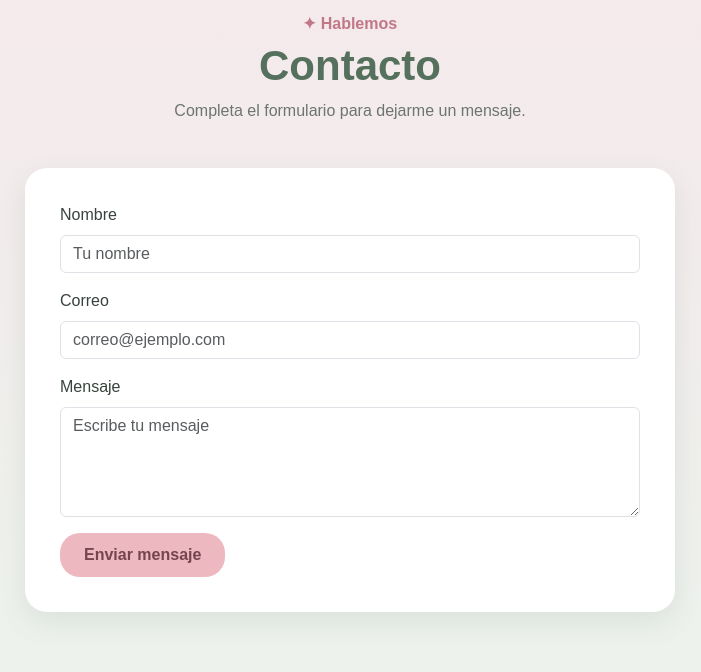
Test: Contacto › muestra errores cuando el formulario está vacío
Click the button "Enviar mensaje". click: (143, 555)
box: [60,533,225,577]
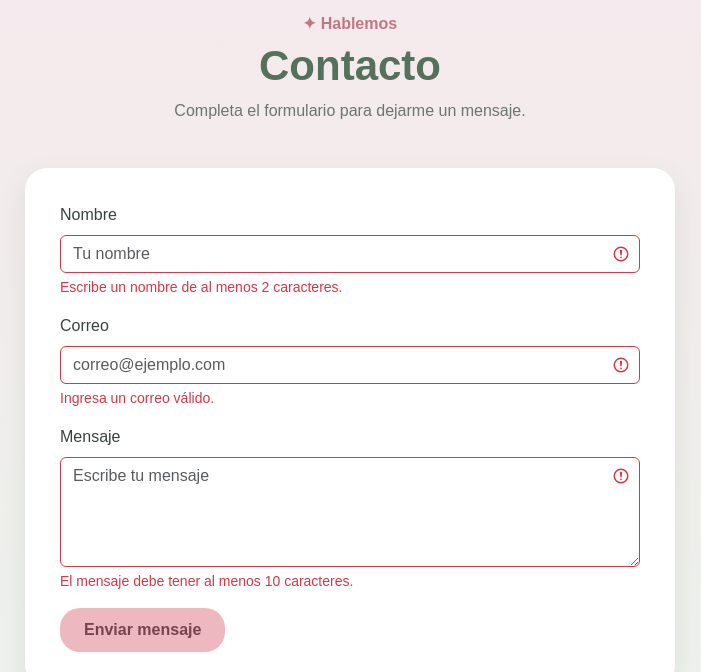
Now the text "Escribe un nombre de al menos 2 caracteres." is shown, box [60,279,342,295]
Now the text "Ingresa un correo válido." is shown, box [60,390,214,406]
Now the text "El mensaje debe tener al menos 10 caracteres." is shown, box [60,573,353,589]
